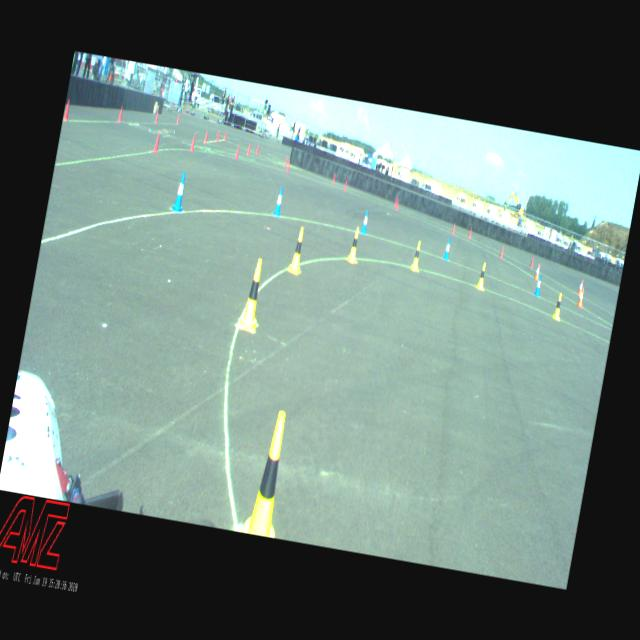blue_cone: (171, 170, 189, 212), (273, 186, 284, 215), (360, 208, 370, 234), (442, 237, 452, 260), (534, 274, 542, 296)
orange_cone: (576, 286, 585, 308), (576, 278, 584, 294), (534, 264, 540, 280)
unknown_cone: (61, 98, 70, 120), (152, 132, 160, 152), (117, 105, 124, 122), (190, 134, 196, 151), (234, 144, 240, 158), (498, 245, 504, 258), (529, 255, 534, 268), (203, 130, 208, 142), (216, 130, 220, 142), (286, 160, 290, 172), (343, 179, 347, 191), (395, 198, 399, 210), (451, 222, 455, 234), (154, 111, 158, 122), (284, 156, 288, 167), (468, 227, 472, 238), (176, 114, 180, 124), (246, 144, 250, 154), (255, 144, 259, 154), (332, 173, 336, 183), (394, 197, 398, 206)
yellow_cone: (238, 408, 296, 538), (238, 257, 267, 332), (286, 226, 306, 275), (346, 226, 361, 263), (475, 262, 488, 290), (410, 240, 422, 270), (552, 292, 564, 321)
